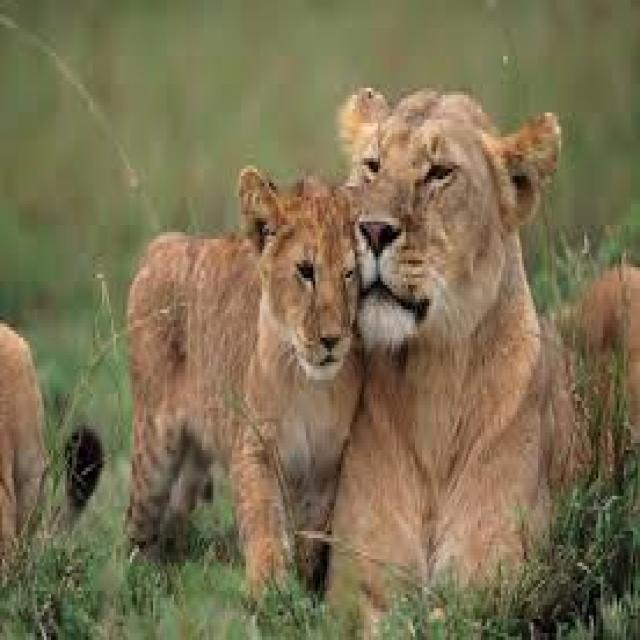Lion: (324, 77, 593, 582), (127, 165, 360, 579)
